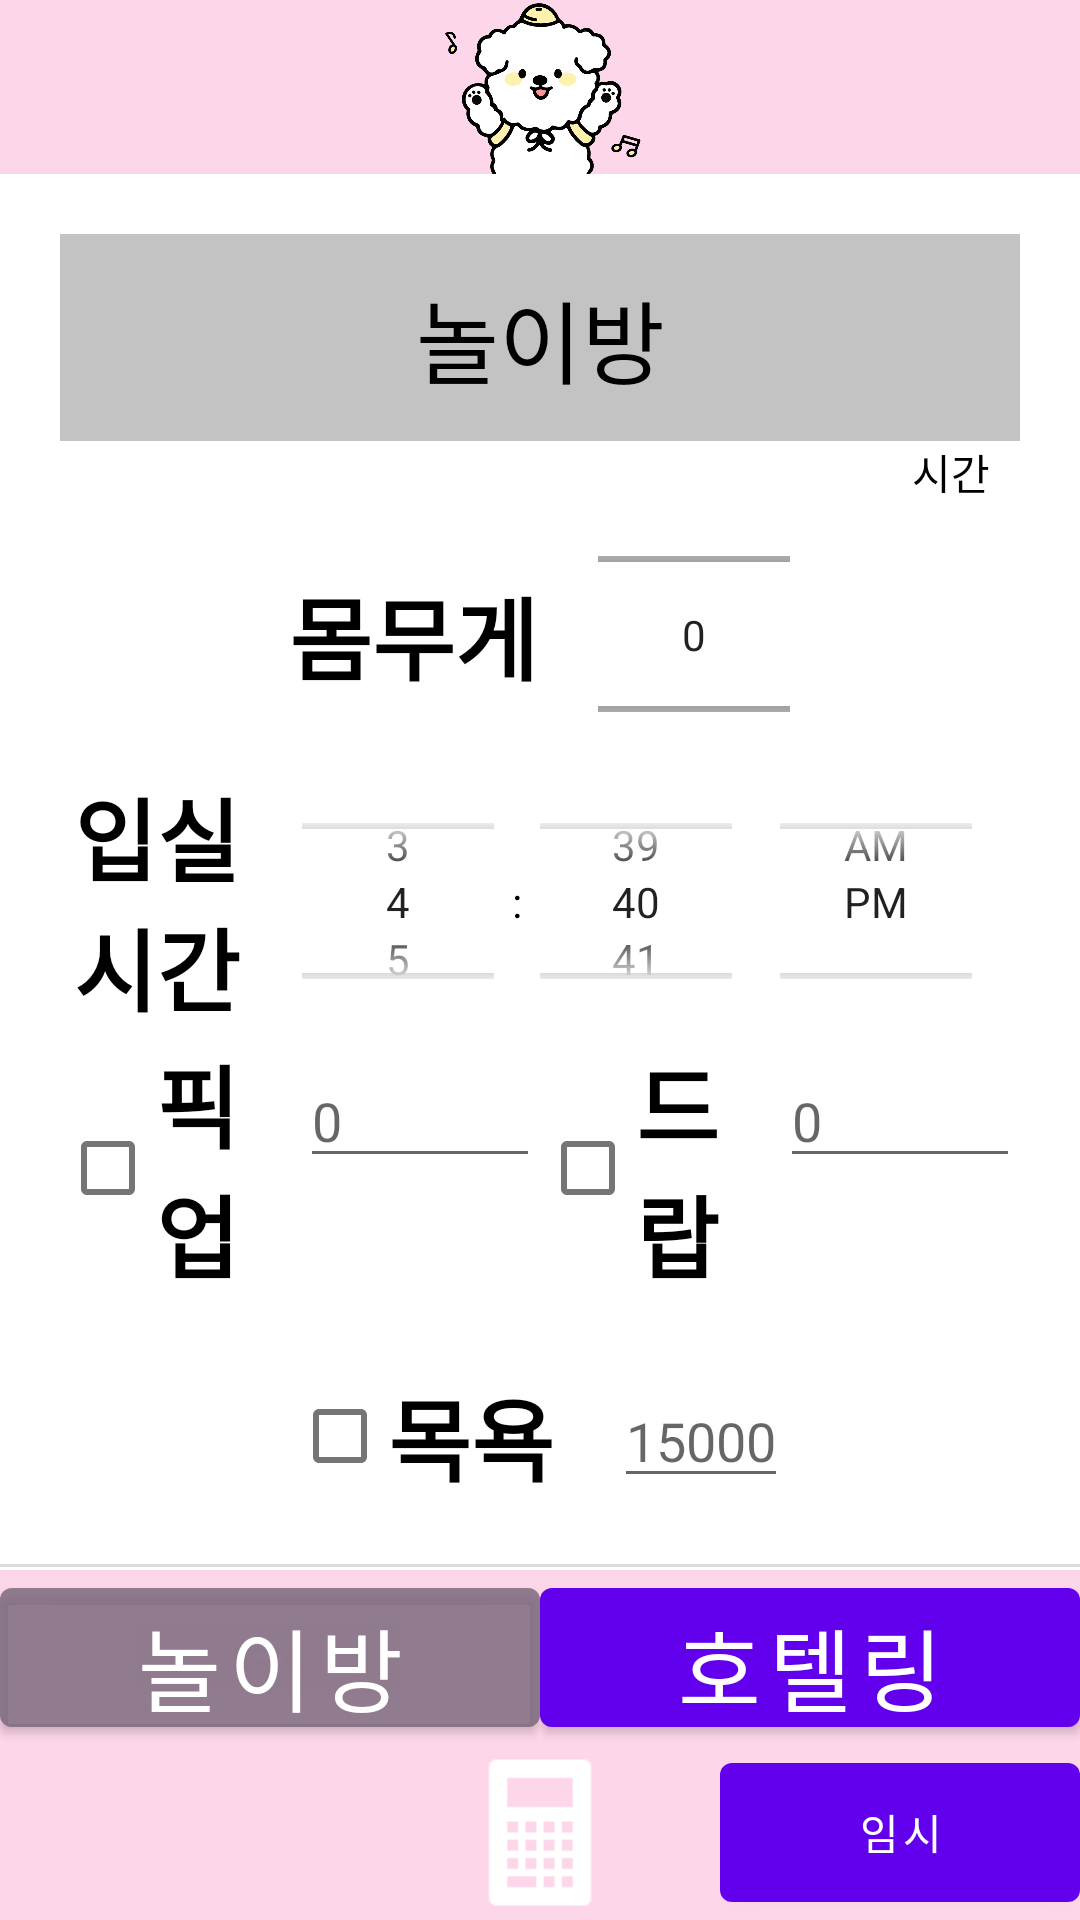

Icons on this 1080 x 1920 Android screen, each with its box as (x1, y1, x2, y2):
calculator: (489, 1760, 591, 1905)
